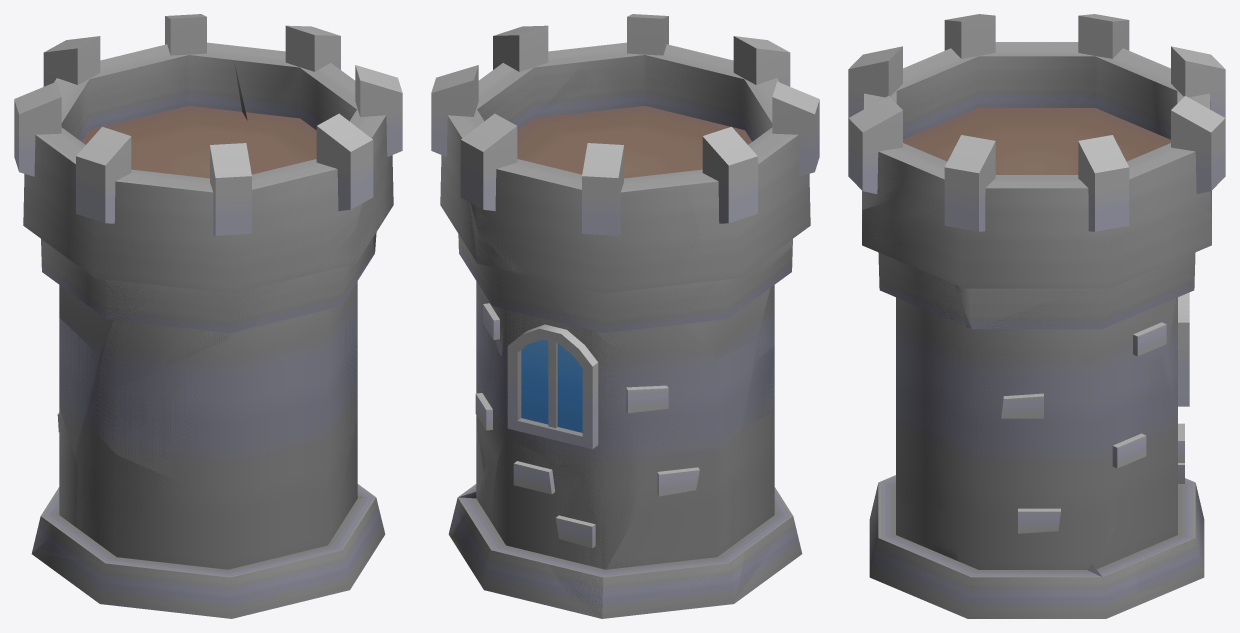
The model's file is Tower.fbx.
3 views of the same model, side by side, from view 1: azimuth 30°, elevation 25°; view 2: azimuth 150°, elevation 25°; view 3: azimuth 270°, elevation 25° (orthographic).
Visible parts, largest first — view 1: Brick_Tower, Phase5_Rubble 1, Brick_Tower_Phase5 2, Phase4_Rubble 1, Brick_Tower_Phase3 2, Brick_Tower_Phase2 2, Phase3_Rubble 1, Phase5_Rubble1 1, Brick_Tower_Phase4 2, Phase3_Rubble1, Phase2_Rubble 1; view 2: Brick_Tower, Brick_Tower_Phase2 2, Phase3_Rubble1, Brick_Tower_Phase3 2, Brick_Tower_Phase5 2, Brick_Tower_Phase4 2, Phase5_Rubble 1, Phase3_Rubble 1, Phase4_Rubble 1, Phase2_Rubble 1, Phase4_Rubble1; view 3: Brick_Tower, Phase4_Rubble 1, Brick_Tower_Phase2 2, Phase5_Rubble 1, Brick_Tower_Phase5 2, Brick_Tower_Phase4 2, Brick_Tower_Phase3 2, Phase4_Rubble1, Phase3_Rubble 1.
Part boxes in pixels (x1=…): Brick_Tower: x1=14, y1=14, x2=402, y2=618; Phase5_Rubble 1: x1=14, y1=16, x2=372, y2=387; Brick_Tower_Phase5 2: x1=87, y1=111, x2=376, y2=483; Phase4_Rubble 1: x1=234, y1=26, x2=401, y2=251; Brick_Tower_Phase3 2: x1=33, y1=44, x2=207, y2=562; Brick_Tower_Phase2 2: x1=23, y1=135, x2=374, y2=550; Phase3_Rubble 1: x1=43, y1=36, x2=149, y2=139; Phase5_Rubble1 1: x1=77, y1=426, x2=281, y2=568; Brick_Tower_Phase4 2: x1=189, y1=43, x2=375, y2=297; Phase3_Rubble1: x1=31, y1=406, x2=77, y2=553; Phase2_Rubble 1: x1=41, y1=239, x2=113, y2=355; Brick_Tower: x1=431, y1=14, x2=819, y2=618; Brick_Tower_Phase2 2: x1=458, y1=135, x2=810, y2=569; Phase3_Rubble1: x1=602, y1=447, x2=746, y2=618; Brick_Tower_Phase3 2: x1=477, y1=159, x2=792, y2=599; Brick_Tower_Phase5 2: x1=469, y1=110, x2=774, y2=464; Brick_Tower_Phase4 2: x1=449, y1=42, x2=641, y2=618; Phase5_Rubble 1: x1=461, y1=17, x2=819, y2=380; Phase3_Rubble 1: x1=509, y1=144, x2=700, y2=309; Phase4_Rubble 1: x1=431, y1=33, x2=584, y2=356; Phase2_Rubble 1: x1=683, y1=239, x2=792, y2=359; Phase4_Rubble1: x1=453, y1=437, x2=582, y2=578; Brick_Tower: x1=848, y1=14, x2=1225, y2=618; Phase4_Rubble 1: x1=903, y1=137, x2=1176, y2=362; Brick_Tower_Phase2 2: x1=879, y1=297, x2=1177, y2=618; Phase5_Rubble 1: x1=848, y1=17, x2=1225, y2=219; Brick_Tower_Phase5 2: x1=862, y1=199, x2=1211, y2=515; Brick_Tower_Phase4 2: x1=865, y1=143, x2=1211, y2=618; Brick_Tower_Phase3 2: x1=1038, y1=48, x2=1153, y2=174; Phase4_Rubble1: x1=1127, y1=423, x2=1204, y2=592; Phase3_Rubble 1: x1=1147, y1=46, x2=1224, y2=139.
Size of the model in its own units: 4.94 by 6.79 by 4.94.
Materials: 1 (1 with a texture image).
